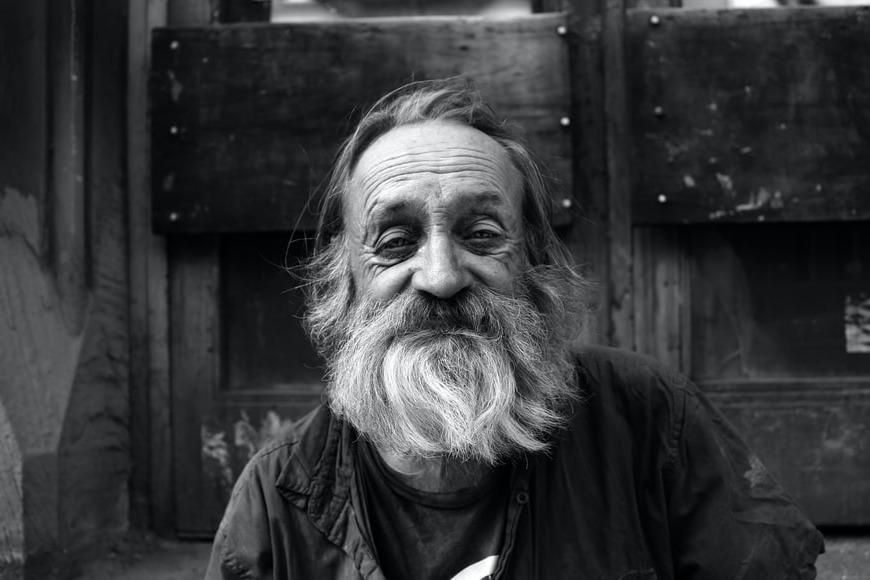Wrinkles: (365, 170, 488, 203), (362, 161, 442, 185), (373, 151, 445, 168), (442, 156, 504, 170), (432, 163, 498, 172), (490, 257, 509, 272), (448, 148, 483, 153), (440, 181, 441, 197)
